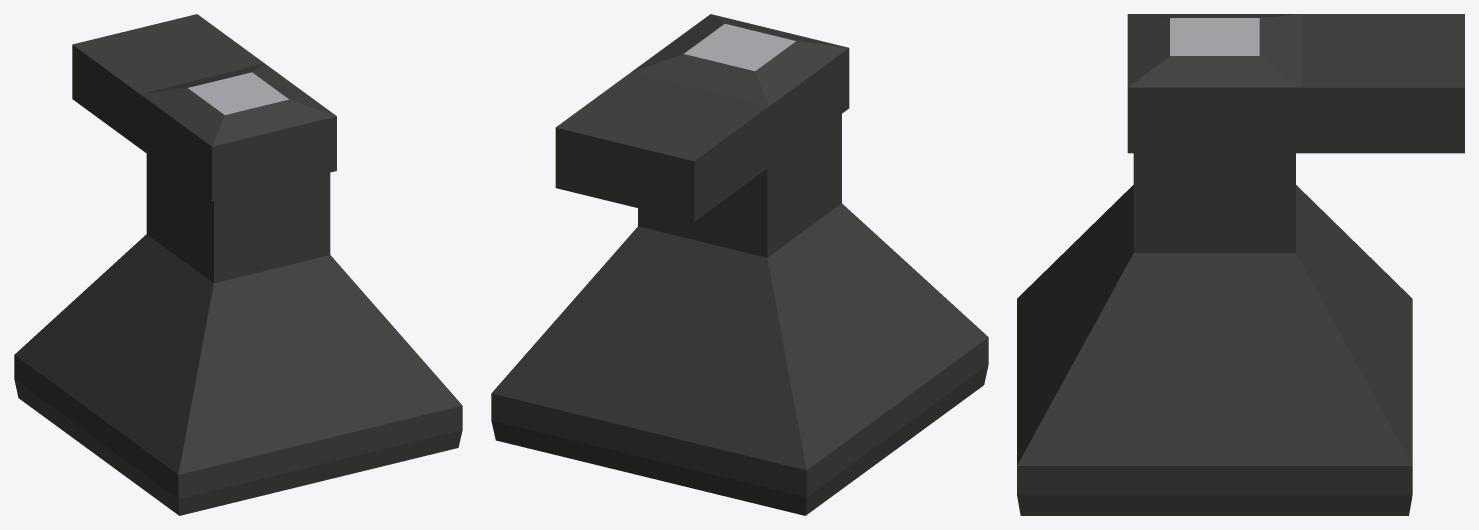
File: davlumbazsonhali.fbx
The picture shows the model from 3 angles, left to right: view 1: azimuth 30°, elevation 25°; view 2: azimuth 150°, elevation 25°; view 3: azimuth 270°, elevation 25°; orthographic projection. The views are drawn at different scales.
Parts seen in each view (by area): view 1: Cube.087; view 2: Cube.087; view 3: Cube.087.
Part boxes in pixels (x1=…): Cube.087: x1=14, y1=14, x2=462, y2=515; Cube.087: x1=491, y1=14, x2=988, y2=515; Cube.087: x1=1017, y1=14, x2=1464, y2=515.
Size of the model in its own units: 83.27 by 92.17 by 94.27.
1 material, 1 textured.
